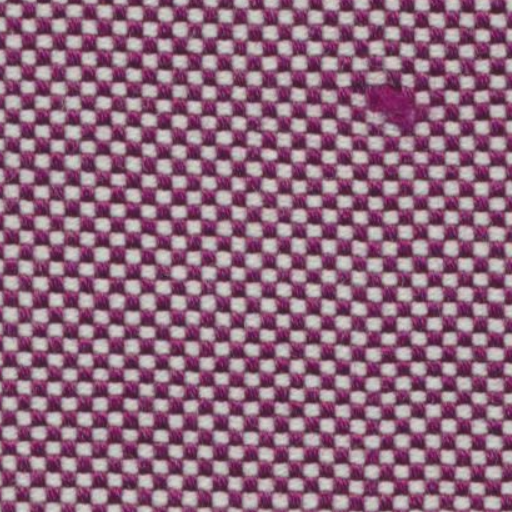MianQiu: (345, 71, 432, 135)
